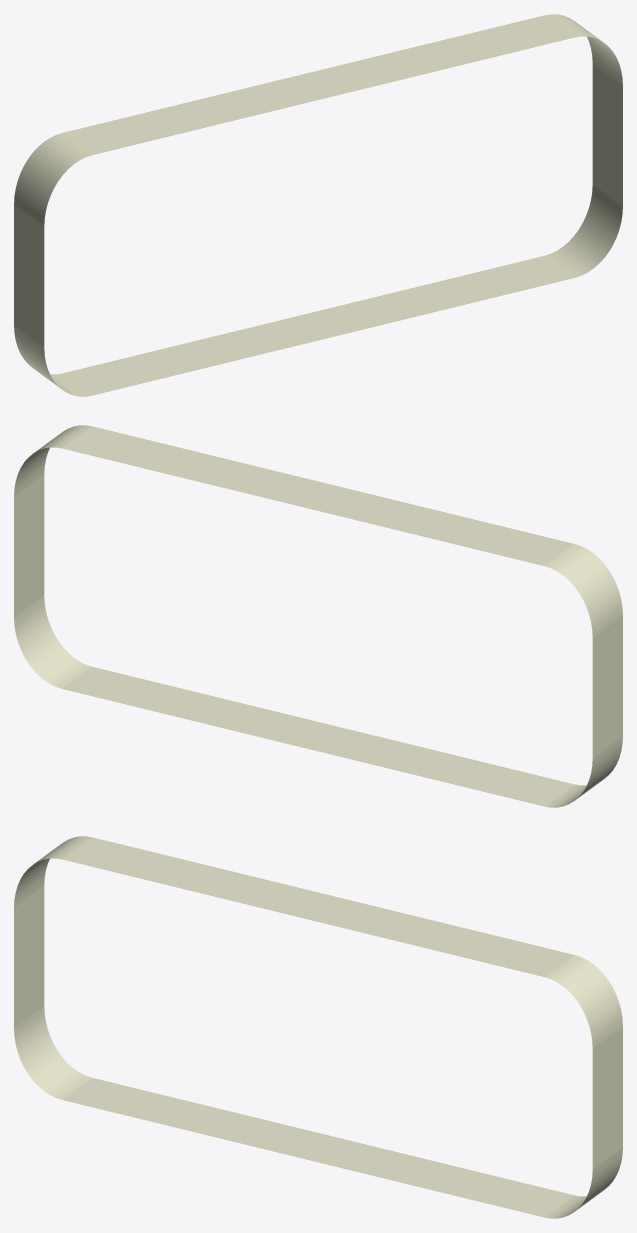
Rendered from original-121.obj.
3 renders of one model, top to bottom at view 1: azimuth 30°, elevation 25°; view 2: azimuth 150°, elevation 25°; view 3: azimuth 330°, elevation 25°, orthographic.
Parts seen in each view (by area): view 1: mesh67/mesh67-geometry/material_1/component_32#mesh67-geometry; view 2: mesh67/mesh67-geometry/material_1/component_32#mesh67-geometry; view 3: mesh67/mesh67-geometry/material_1/component_32#mesh67-geometry.
Boxes of the visible parts, <box> form: mesh67/mesh67-geometry/material_1/component_32#mesh67-geometry: <box>14,14,622,396</box>; mesh67/mesh67-geometry/material_1/component_32#mesh67-geometry: <box>14,425,622,807</box>; mesh67/mesh67-geometry/material_1/component_32#mesh67-geometry: <box>14,836,622,1218</box>.
Size of the model in its own units: 0.1581 by 0.0628 by 0.0144.
